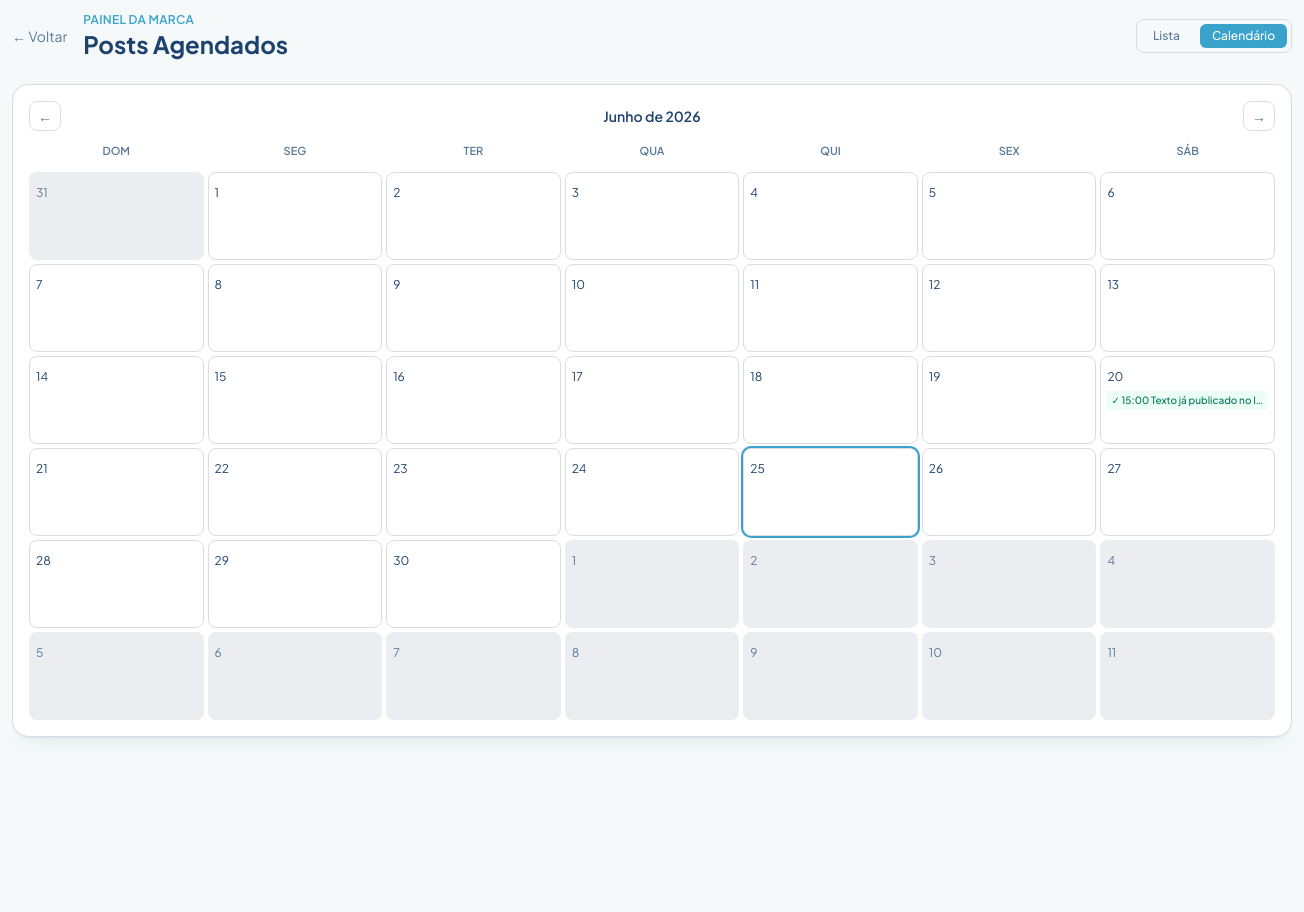
Test: ScheduledPostsPage › posts publicados › mostra um placeholder e o aviso de remoção quando a imagem já foi apagada, sem tentar buscar a signed URL
This screenshot has width=1304, height=912.
Click the button "Lista": {"x": 1166, "y": 36} [1141, 24, 1192, 48]
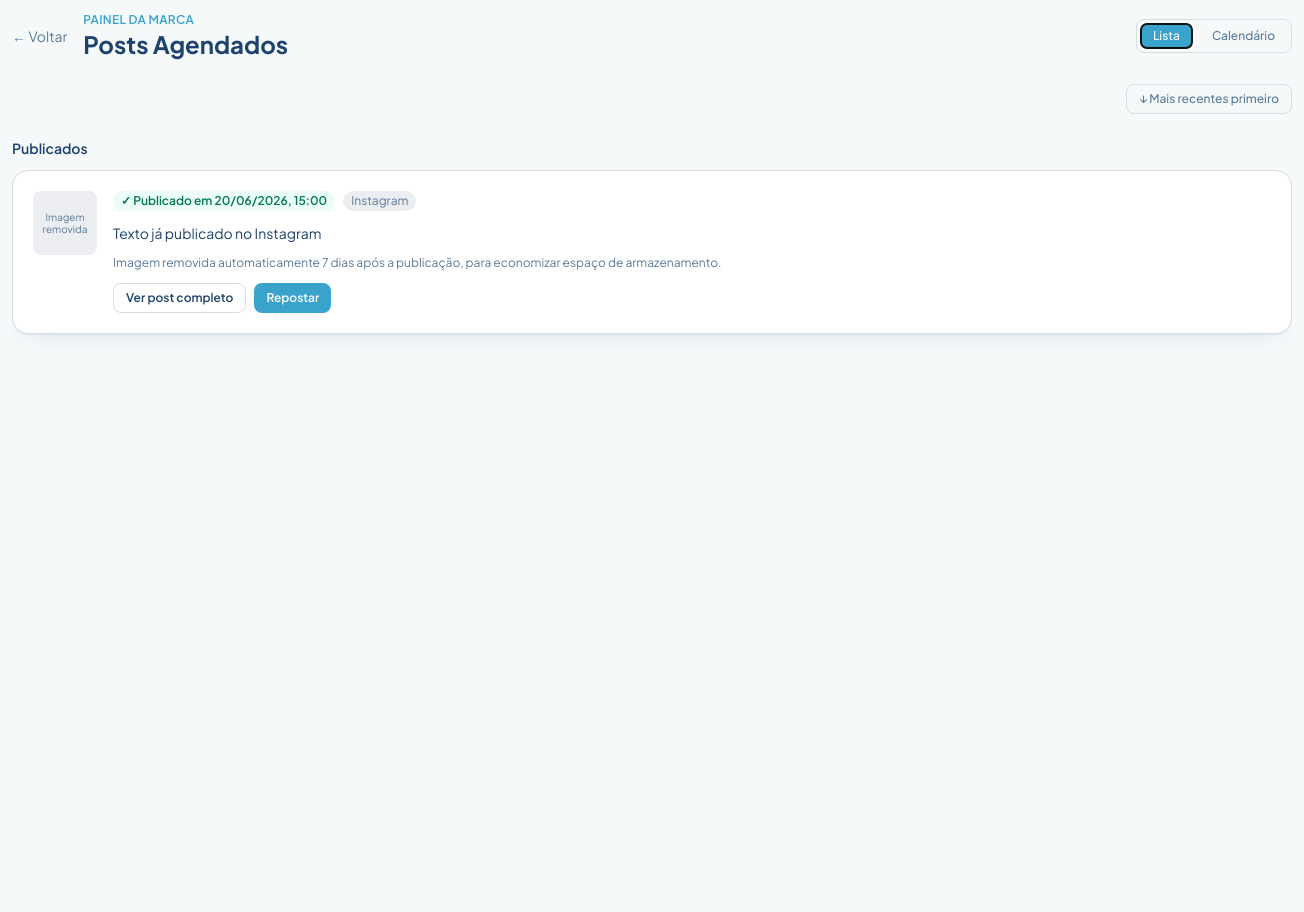
Expected: the text "Imagem removida" is shown, [33, 191, 97, 255]
Expected: the text "Imagem removida automaticamente 7 dias após a publicação" is shown, [113, 255, 722, 270]
